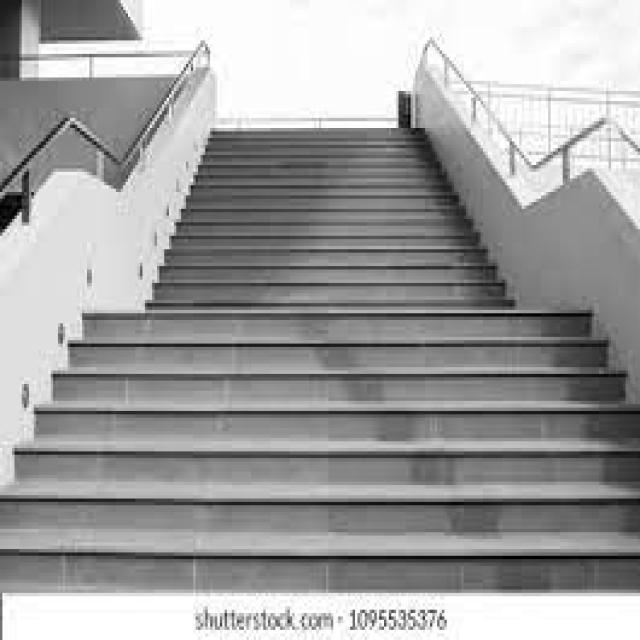upstair: (1, 307, 636, 594), (132, 126, 523, 304)
